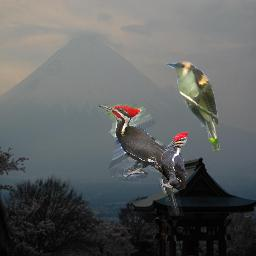Cuckoo: (164, 60, 222, 155)
Woodpecker: (97, 104, 188, 216), (150, 132, 188, 190)
